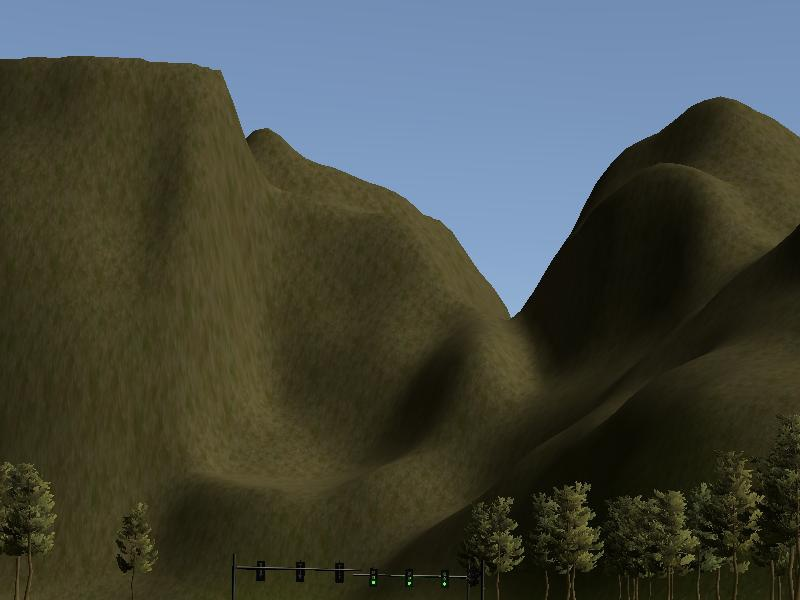Green: (367, 564, 380, 591), (402, 565, 415, 591), (439, 566, 451, 591)
